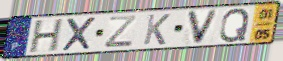H: (27, 17, 66, 55)
K: (141, 13, 172, 46)
Q: (218, 7, 252, 44)
V: (186, 8, 221, 46)
X: (60, 16, 98, 53)
Z: (102, 14, 139, 49)
